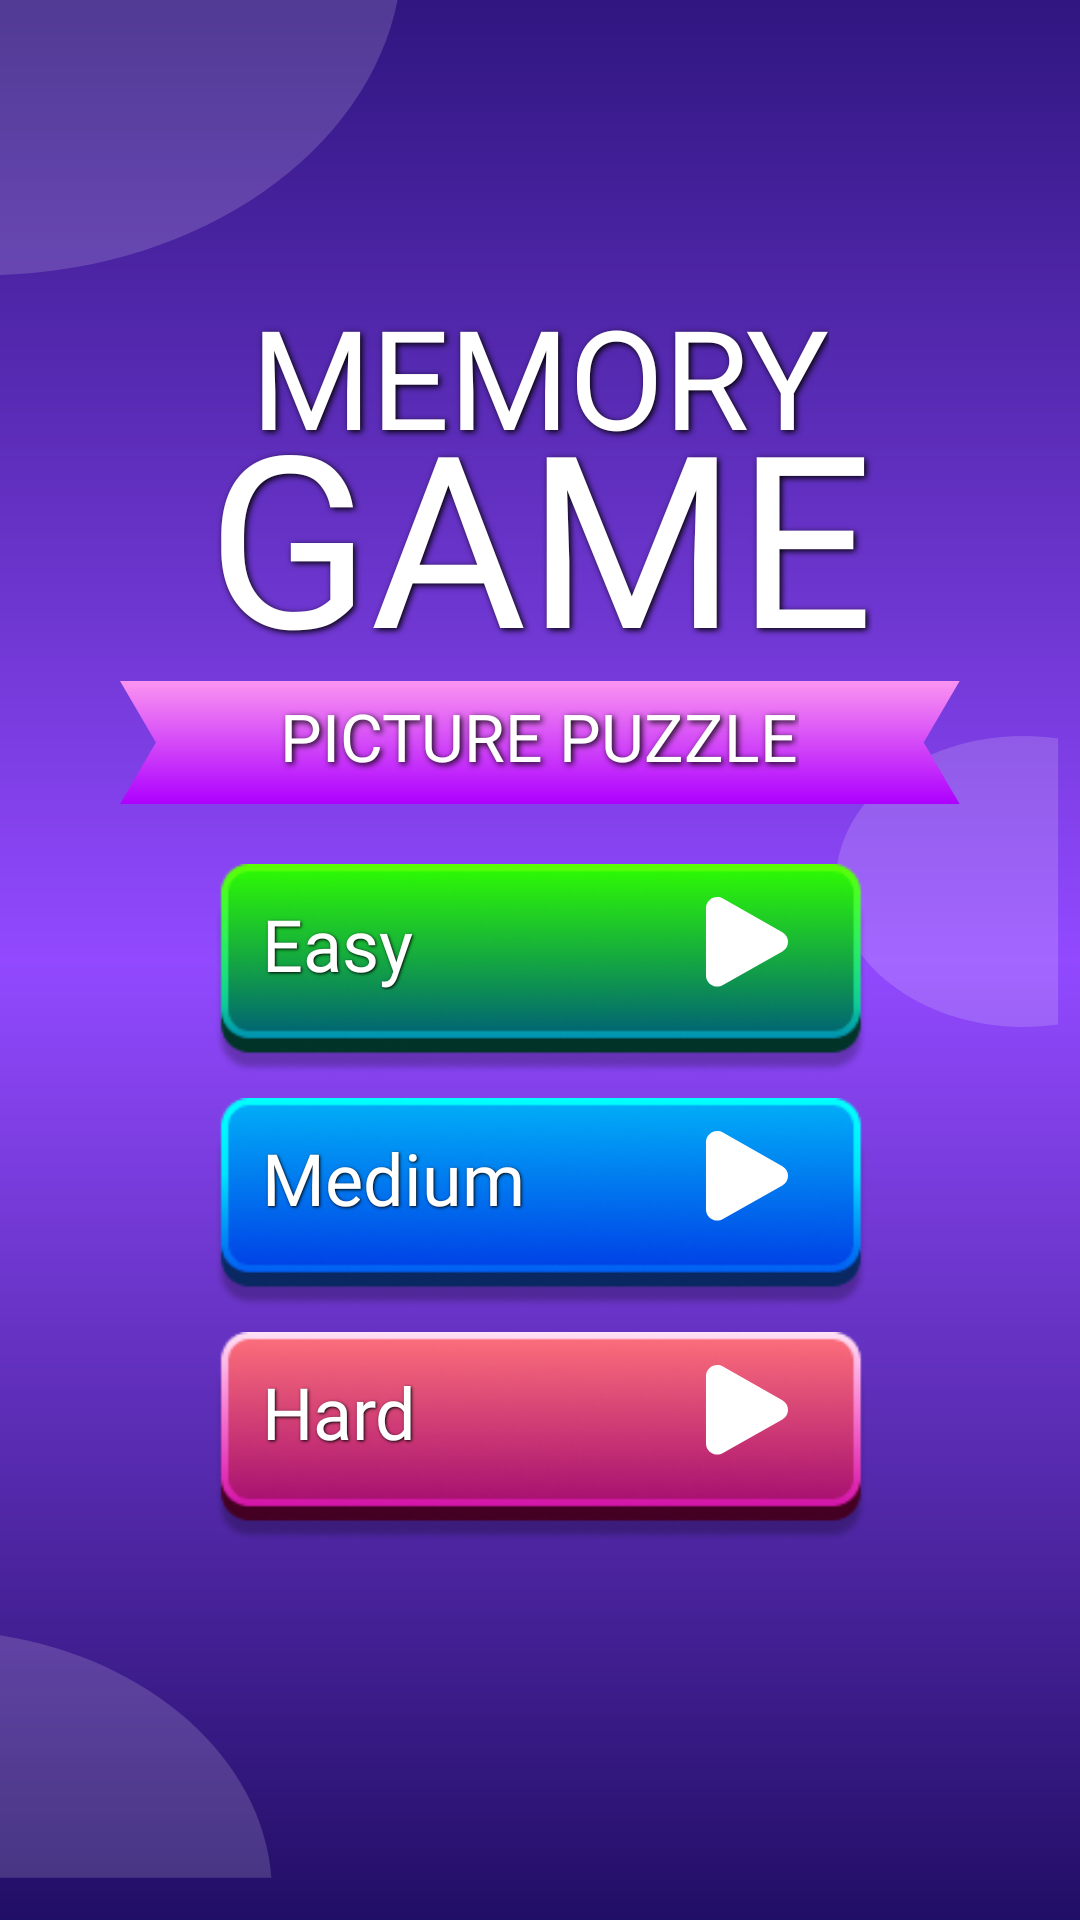

Where to tap for icons on this 1080x1920 app screen, as (x=x, y=y):
play: (x=747, y=948), (x=747, y=1182), (x=747, y=1416)
